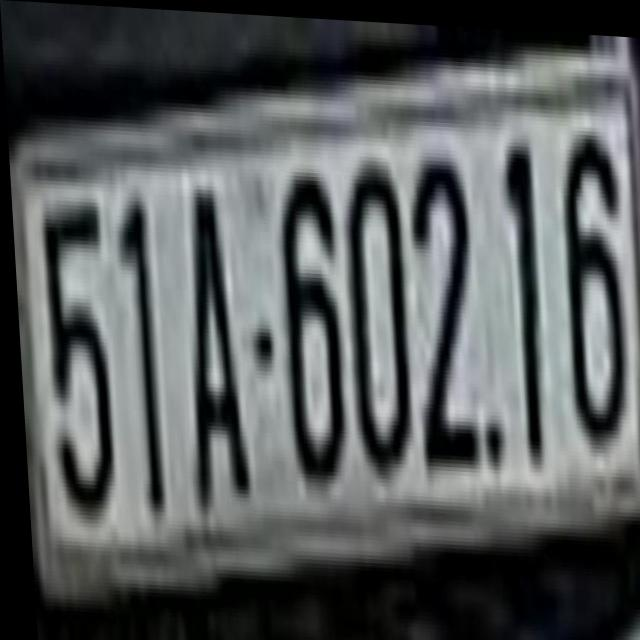0: (340, 140, 414, 530)
1: (492, 73, 549, 483), (112, 172, 166, 554)
2: (401, 135, 481, 491)
5: (35, 172, 119, 548)
6: (270, 144, 346, 520), (553, 88, 630, 447)
A: (167, 158, 252, 558)
